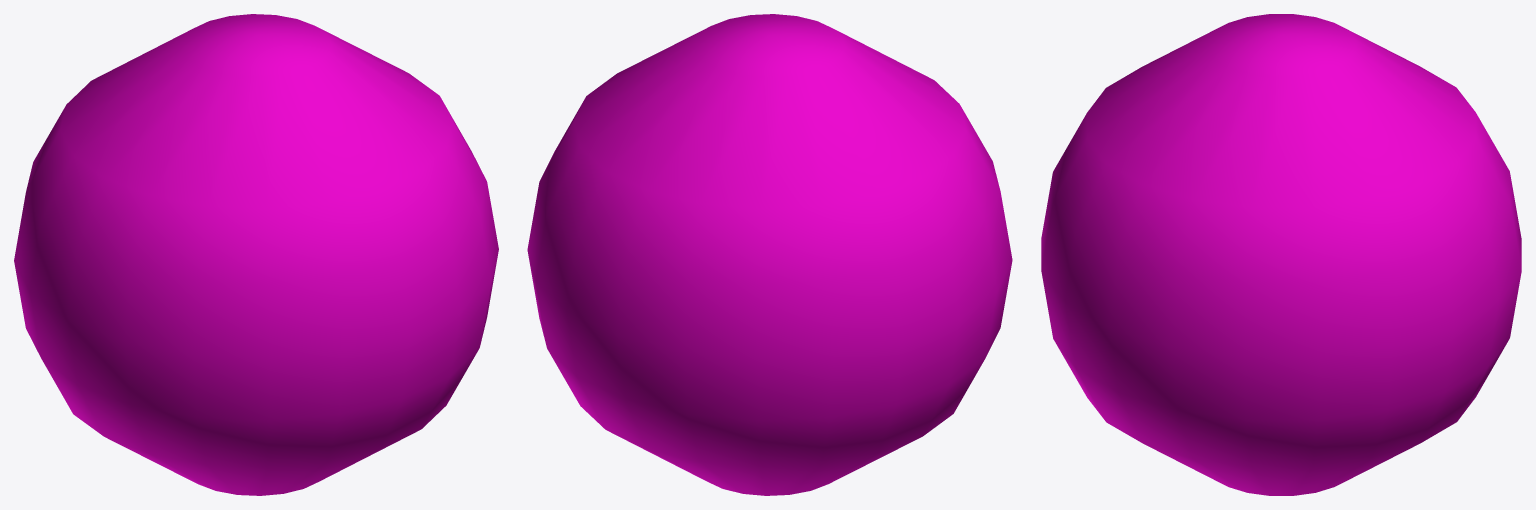
File: geo_EnemyTooth_3.fbx
The picture shows the model from 3 angles, left to right: view 1: azimuth 30°, elevation 25°; view 2: azimuth 150°, elevation 25°; view 3: azimuth 270°, elevation 25°; orthographic projection.
Parts seen in each view (by area): view 1: geo_EnemyToothEye_L1; view 2: geo_EnemyToothEye_L1; view 3: geo_EnemyToothEye_L1.
Boxes of the visible parts, x1=… form: geo_EnemyToothEye_L1: x1=14, y1=14, x2=498, y2=495; geo_EnemyToothEye_L1: x1=527, y1=14, x2=1012, y2=495; geo_EnemyToothEye_L1: x1=1041, y1=14, x2=1521, y2=495.
Bounding box in the file's own units: 18.28 × 18.5 × 18.28.
